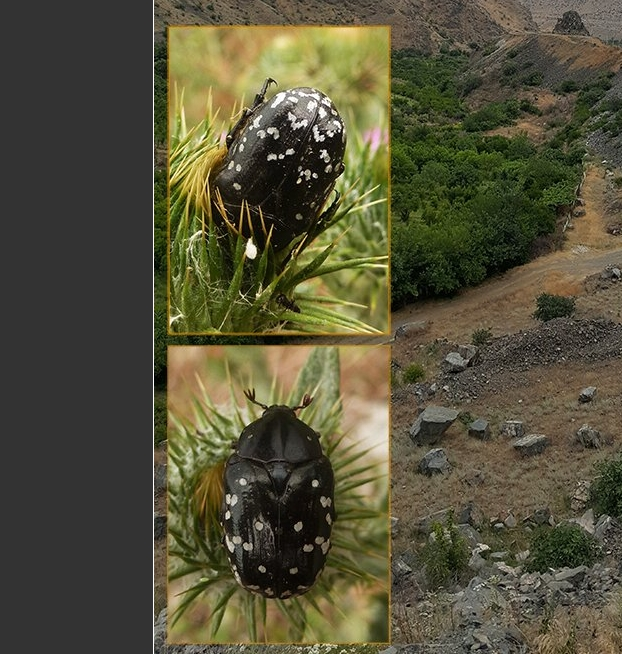Protaetia_funebris: (193, 77, 359, 279), (203, 385, 352, 606)
